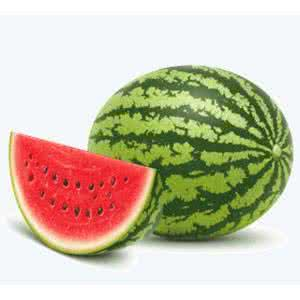watermelon: (86, 58, 299, 239)
